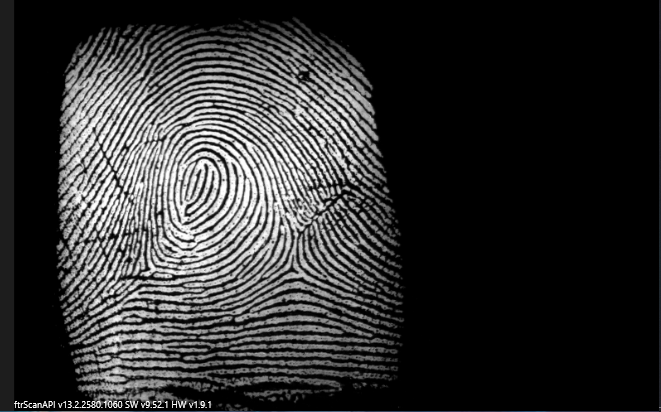nucelo: (174, 155, 224, 212)
verticilo: (132, 258, 168, 286), (278, 249, 306, 282)
